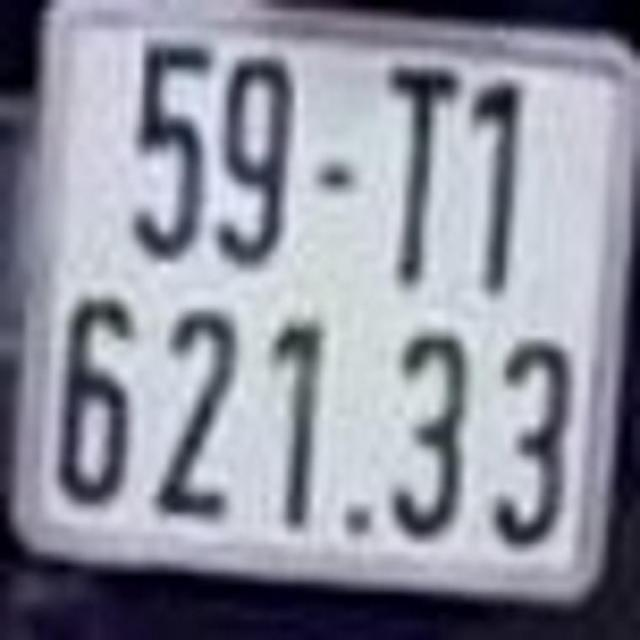1: (261, 302, 323, 532), (472, 56, 516, 291)
2: (160, 304, 228, 514)
3: (397, 315, 462, 536), (503, 332, 568, 550)
5: (129, 31, 207, 252)
6: (60, 295, 134, 500)
9: (219, 52, 290, 271)
T: (387, 56, 464, 282)
